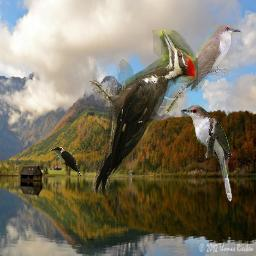Cuckoo: (165, 24, 242, 114), (180, 105, 232, 202), (50, 147, 81, 178)
Woodpecker: (85, 30, 198, 197)
